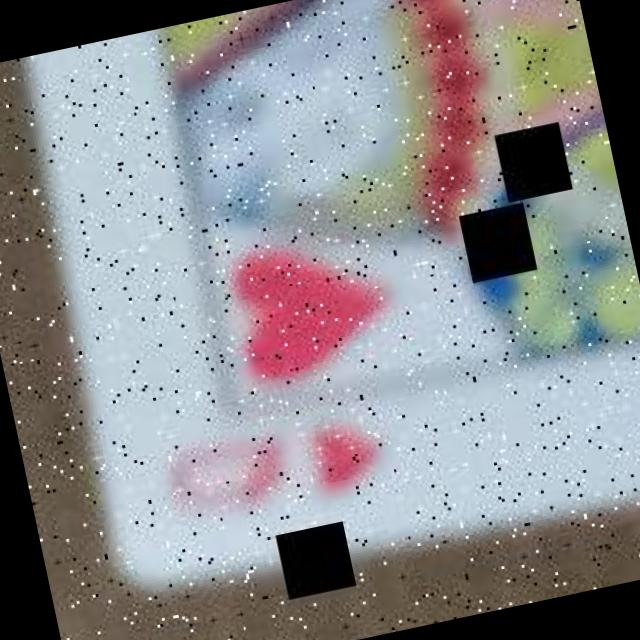Queen of hearts: (9, 0, 640, 604)
